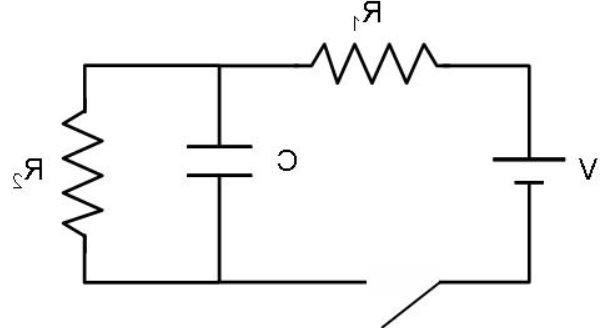Capacitor: (180, 112, 267, 209)
